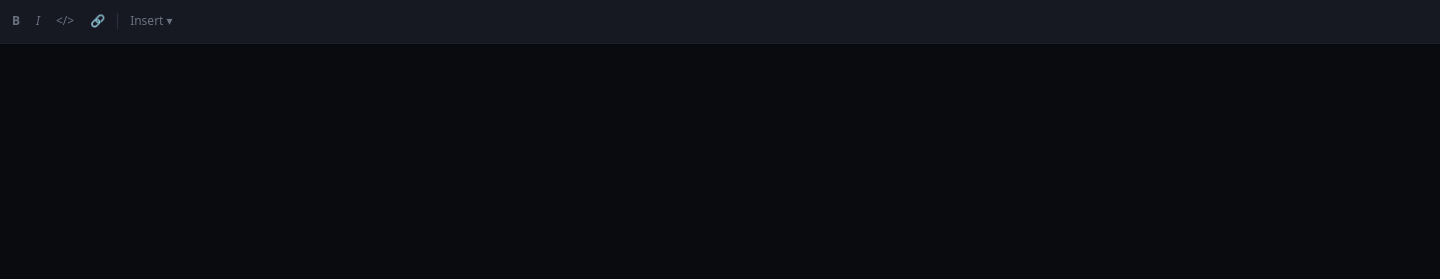
it: EditorToolbar › renders all expected block items in the Insert menu
Step 1. Click the button "Insert ▾" → x=151, y=21, box [126,8,176,35]
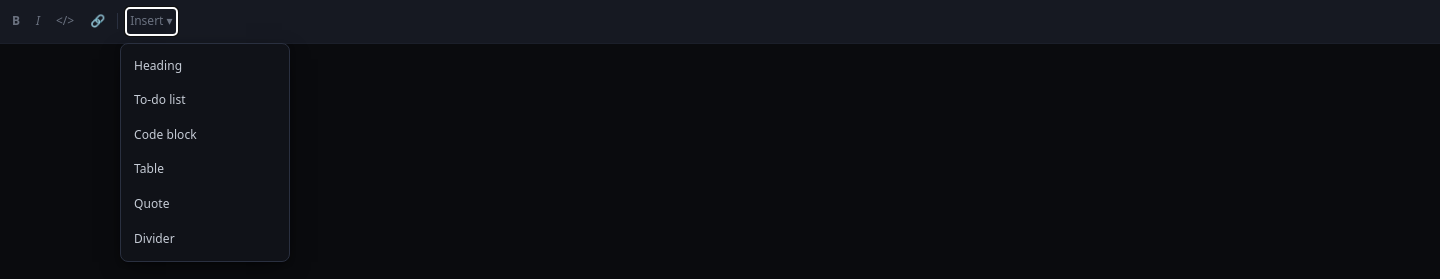
Expected: the menu item "Heading" is shown, [134,57,182,74]
Expected: the menu item "To-do list" is shown, [134,91,186,108]
Expected: the menu item "Code block" is shown, [134,126,197,143]
